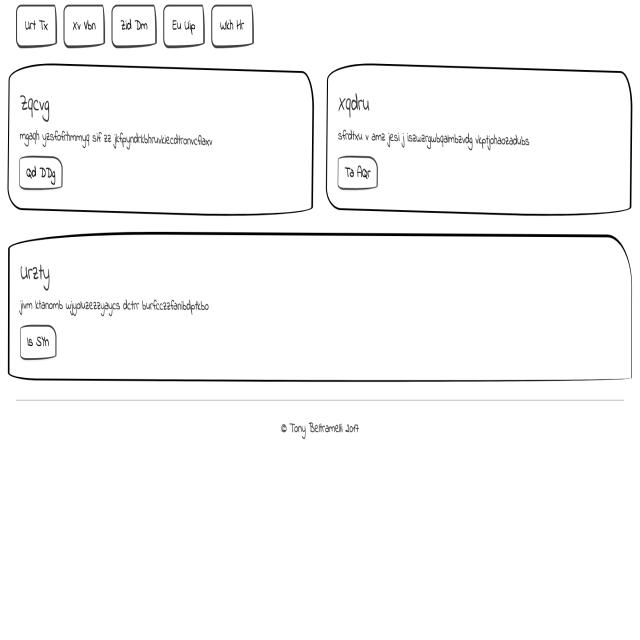Button: (10, 154, 68, 196), (334, 150, 386, 194), (20, 330, 61, 358)
Card: (3, 235, 633, 388), (328, 56, 637, 220), (4, 62, 316, 217)
Footer: (0, 387, 640, 640)
Heading 6: (13, 254, 67, 288), (336, 78, 376, 120), (20, 87, 55, 117)
Navigation Bar: (7, 5, 255, 48)
Paragraph: (336, 122, 546, 158), (15, 124, 231, 151), (19, 294, 219, 319)
